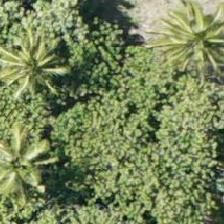coconut_tree: (0, 21, 76, 111), (153, 0, 223, 86), (0, 121, 62, 211), (150, 0, 223, 62)
